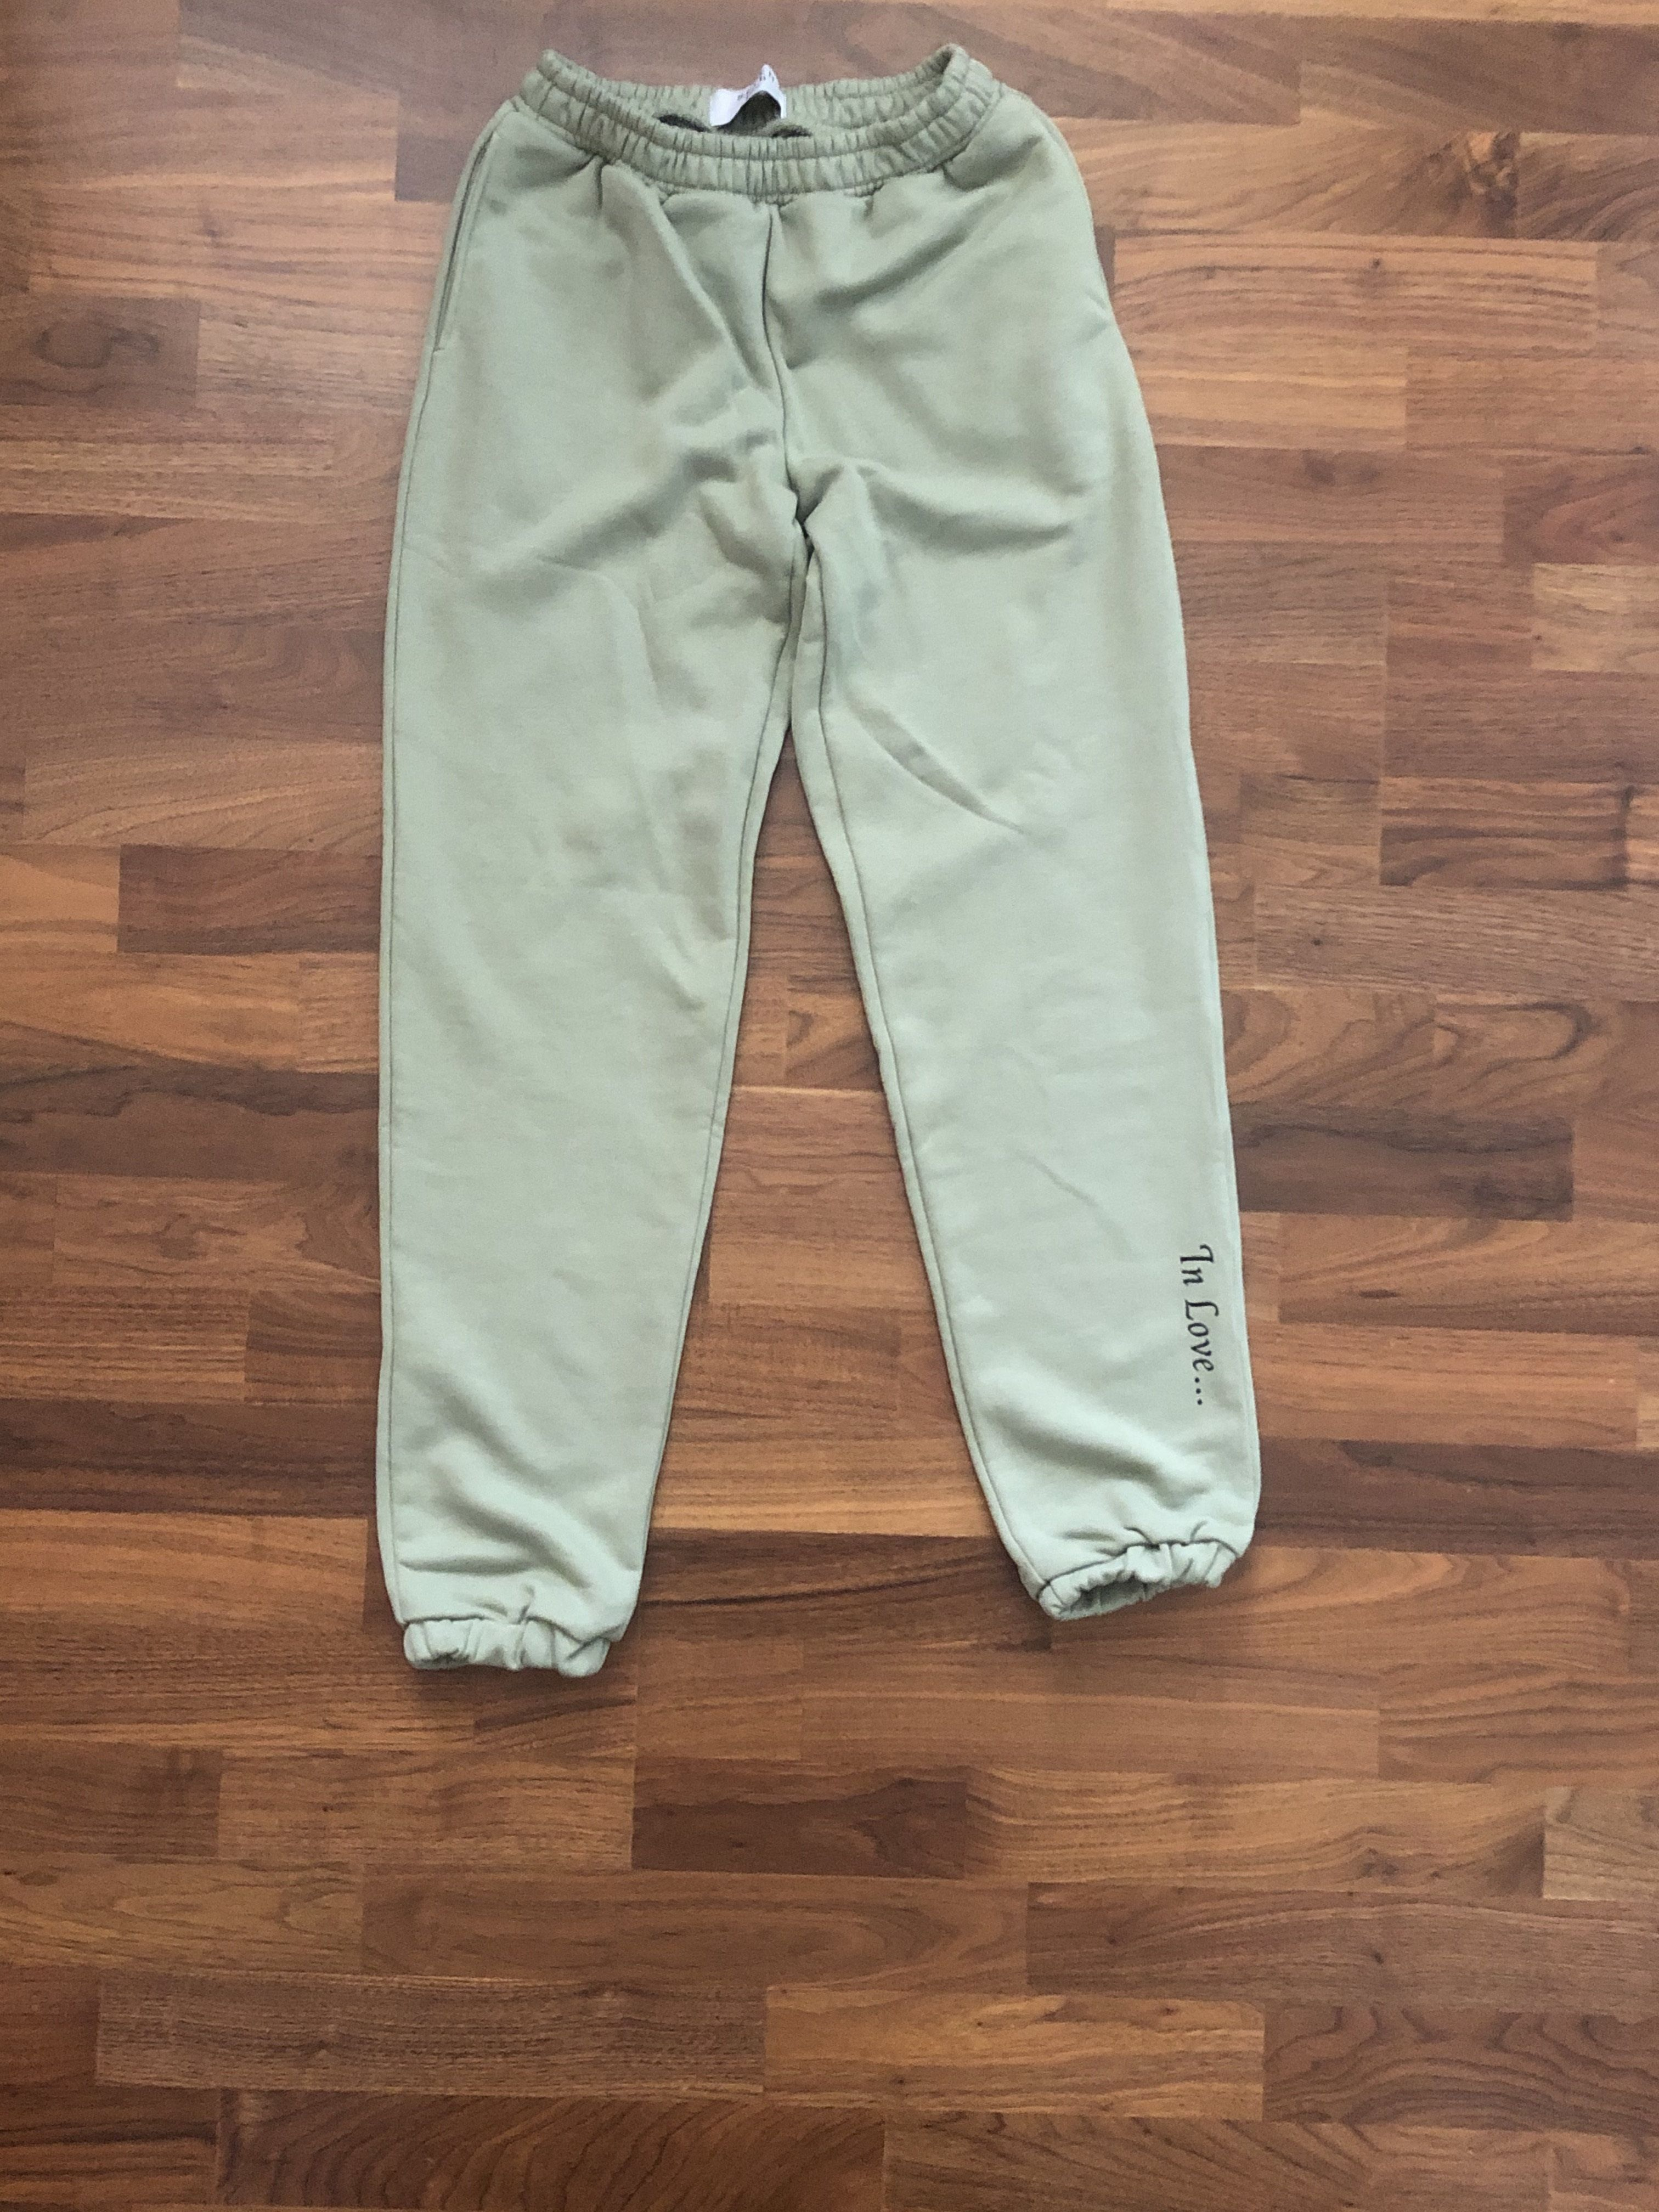clothes: (315, 52, 1267, 1676)
